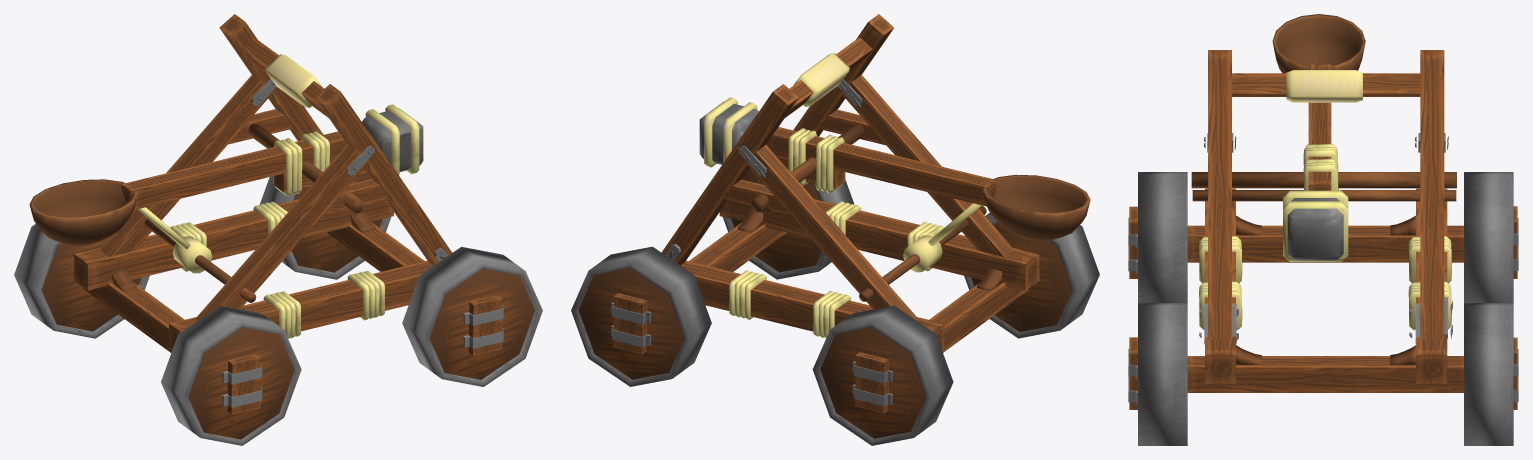
The model's file is CrossbowCatapultParted.fbx.
3 views of the same model, side by side, from view 1: azimuth 30°, elevation 25°; view 2: azimuth 150°, elevation 25°; view 3: azimuth 270°, elevation 25° (orthographic). The views are drawn at different scales.
Visible parts, largest first — view 1: VerticalLP.006, wheel.001, wheel.004, wheelarmor, wheelarmor.001, VerticalLP.003, impactholder, VerticalLP.012, VerticalLP.002, VerticalLP.005, VerticalLP.004, wheel.003 (+18 smaller); view 2: VerticalLP.005, wheel.003, wheel.002, wheelarmor.002, wheelarmor.003, VerticalLP.004, VerticalLP.012, impactholder, VerticalLP.006, VerticalLP.001, VerticalLP.003, wheel.001 (+18 smaller); view 3: VerticalLP.008, VerticalLP.001, wheelarmor.002, wheelarmor, VerticalLP.002, wheelarmor.003, wheelarmor.001, VerticalLP.007, impactholder, strengthcilinder.002, counterweight, VerticalLP.019 (+14 smaller).
Boxes of the visible parts, x1,y1,x2,y2 form: VerticalLP.006: [74, 199, 393, 290]; wheel.001: [188, 327, 294, 439]; wheel.004: [429, 268, 535, 379]; wheelarmor: [402, 247, 542, 386]; wheelarmor.001: [161, 305, 301, 445]; VerticalLP.003: [195, 144, 366, 320]; impactholder: [29, 179, 137, 245]; VerticalLP.012: [121, 131, 346, 209]; VerticalLP.002: [315, 84, 452, 265]; VerticalLP.005: [169, 249, 474, 351]; VerticalLP.004: [99, 75, 270, 256]; wheel.003: [41, 236, 141, 331]; VerticalLP.005: [719, 199, 1039, 290]; wheel.003: [820, 327, 925, 438]; wheel.002: [578, 268, 684, 379]; wheelarmor.002: [571, 246, 711, 386]; wheelarmor.003: [812, 305, 953, 445]; VerticalLP.004: [747, 145, 918, 320]; VerticalLP.012: [766, 127, 997, 206]; impactholder: [982, 174, 1090, 241]; VerticalLP.006: [638, 249, 944, 351]; VerticalLP.001: [661, 84, 798, 265]; VerticalLP.003: [843, 75, 1014, 256]; wheel.001: [971, 223, 1072, 331]; VerticalLP.008: [1187, 356, 1463, 392]; VerticalLP.001: [1420, 50, 1444, 339]; wheelarmor.002: [1464, 303, 1513, 445]; wheelarmor: [1138, 303, 1187, 445]; VerticalLP.002: [1208, 50, 1231, 339]; wheelarmor.003: [1464, 172, 1513, 302]; wheelarmor.001: [1138, 172, 1187, 302]; VerticalLP.007: [1187, 225, 1463, 262]; impactholder: [1272, 14, 1365, 73]; strengthcilinder.002: [1191, 172, 1456, 188]; counterweight: [1287, 198, 1343, 260]; VerticalLP.019: [1232, 73, 1420, 96].
Bounding box in the file's own units: 544 × 364 × 387.
